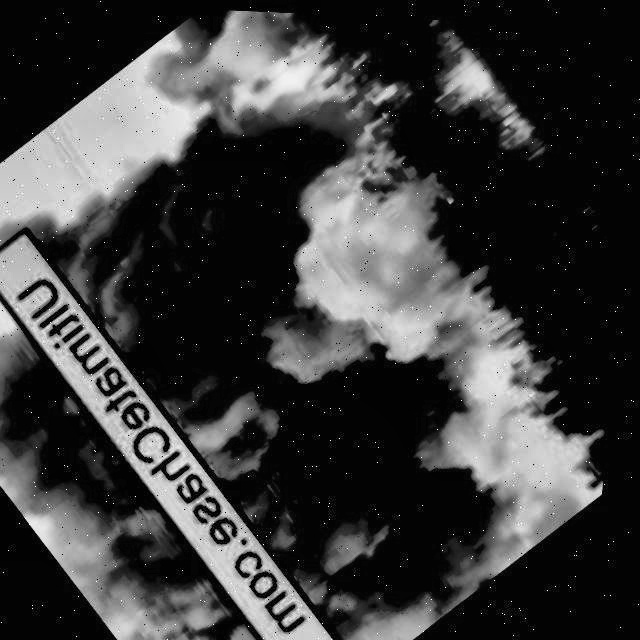Fire: (204, 18, 366, 170), (420, 44, 499, 120), (482, 107, 537, 160)
Smoke: (0, 74, 579, 640), (259, 111, 634, 533), (0, 318, 346, 640)
